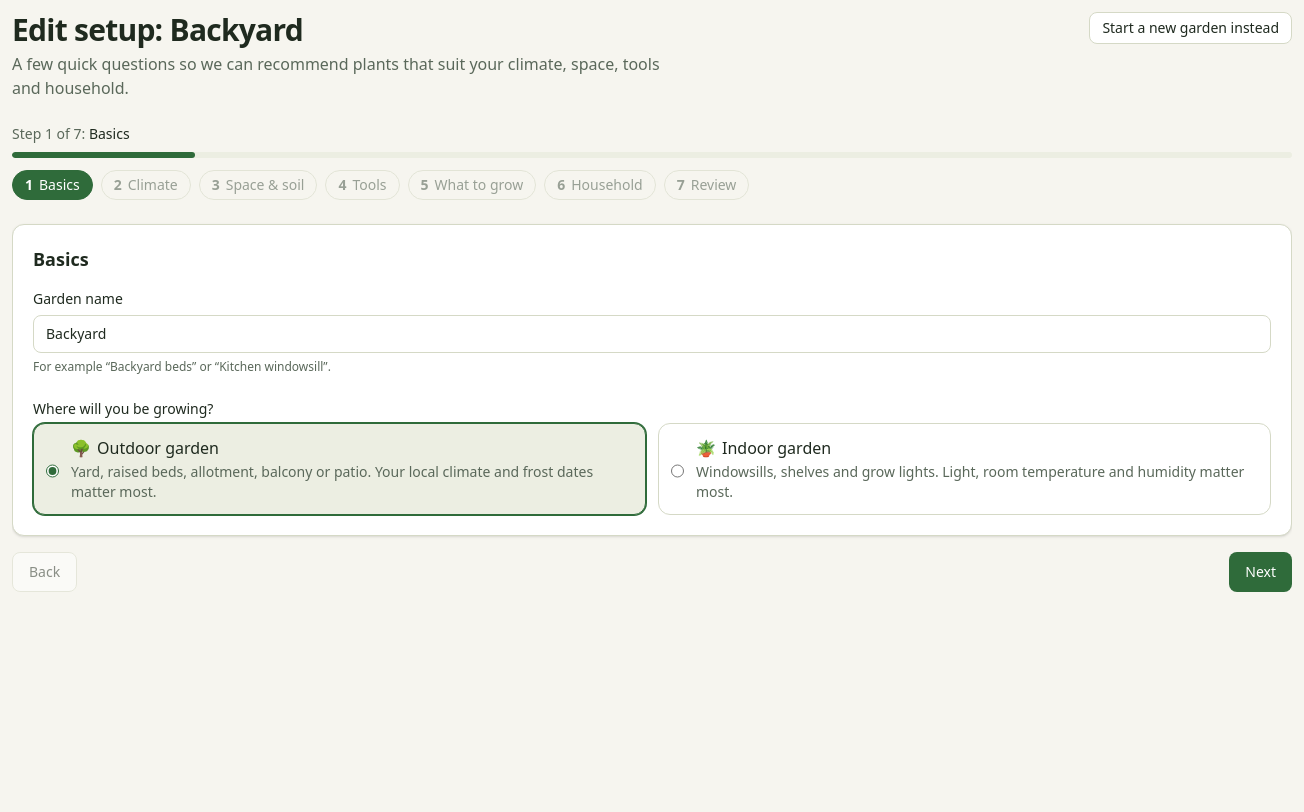
Test: SetupWizard (editing) › 'Start a new garden instead' switches to a blank form that adds a second garden
Later steps or results of the test are not shown.
Click the button "Start a new garden instead" at coordinates (1191, 28), box [1089,12,1292,44]
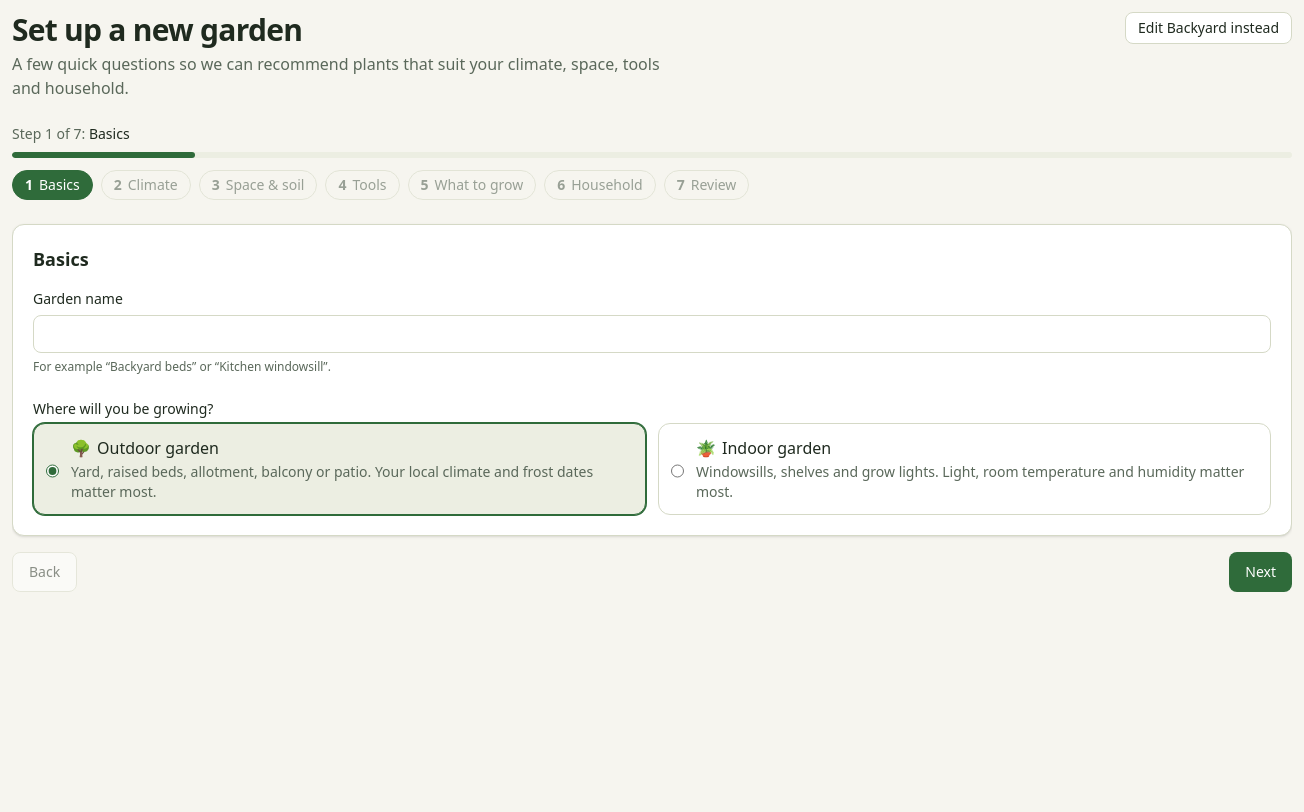
Expected: the field labelled "Garden name" is empty, [33,315,1271,353]
